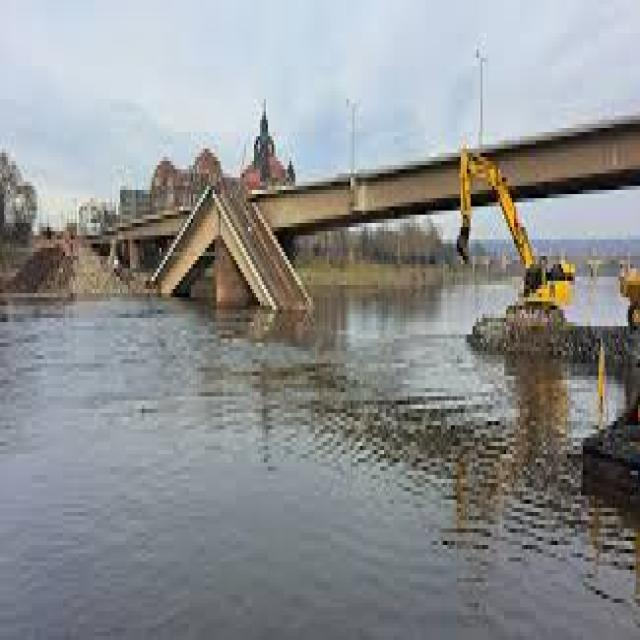bridge collapse: (47, 53, 443, 442)
